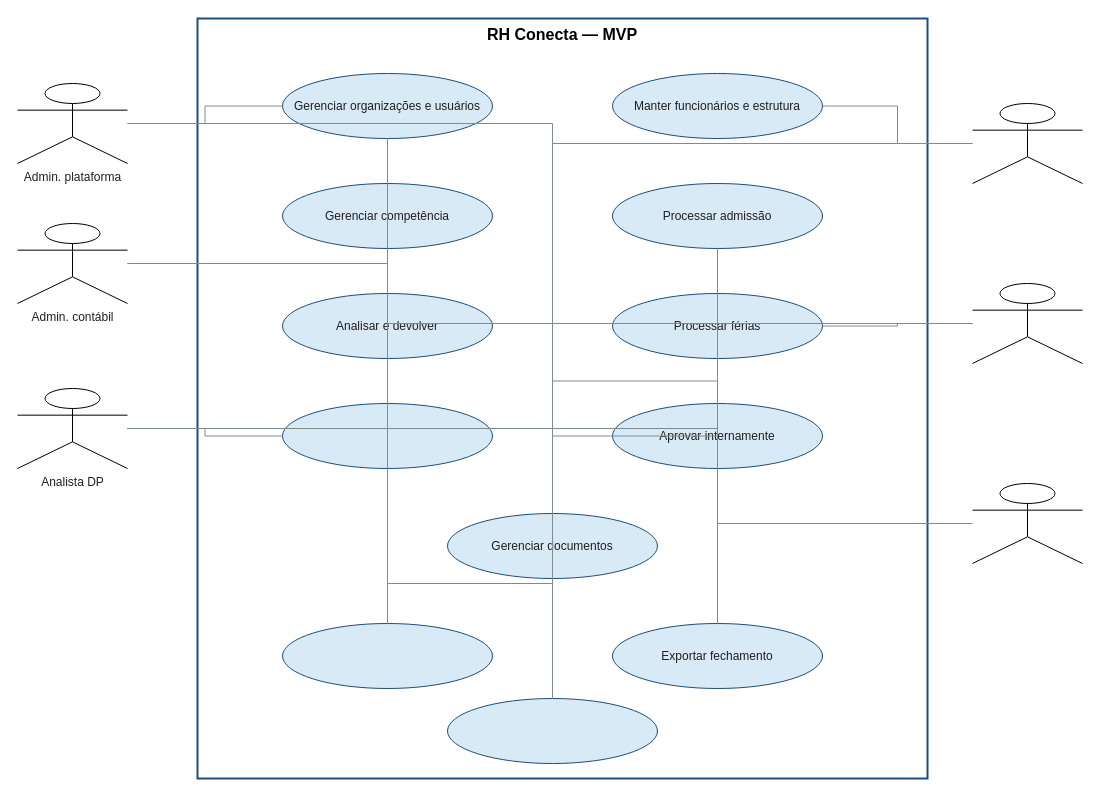
Some shapes in this 1104 by 796 pixel diagram are drawn without their labels. The box of each missing label's shape, as (x1, y1, x2, y2) in pixels:
Admin. empresa: (972, 102, 1082, 184)
Aprovar e concluir: (282, 402, 492, 468)
Consultar auditoria: (446, 698, 658, 764)
Gestor aprovador: (972, 482, 1082, 564)
Monitorar pendências: (282, 622, 492, 688)
Responsável empresa: (972, 282, 1082, 364)
